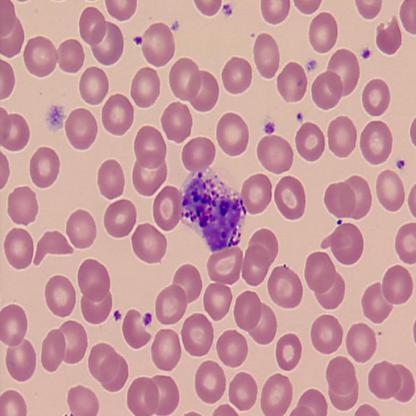Basophil: (178, 169, 247, 255)
